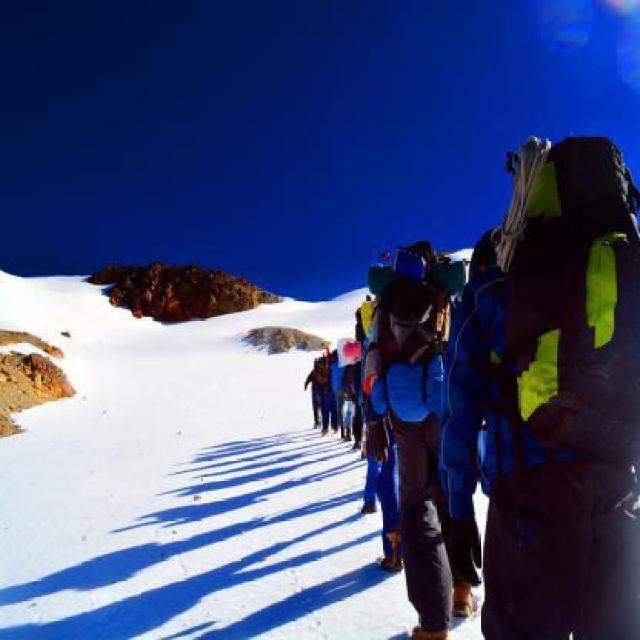Person: (434, 142, 638, 638), (360, 231, 483, 638), (356, 320, 390, 528), (336, 338, 361, 442), (308, 342, 338, 428)
